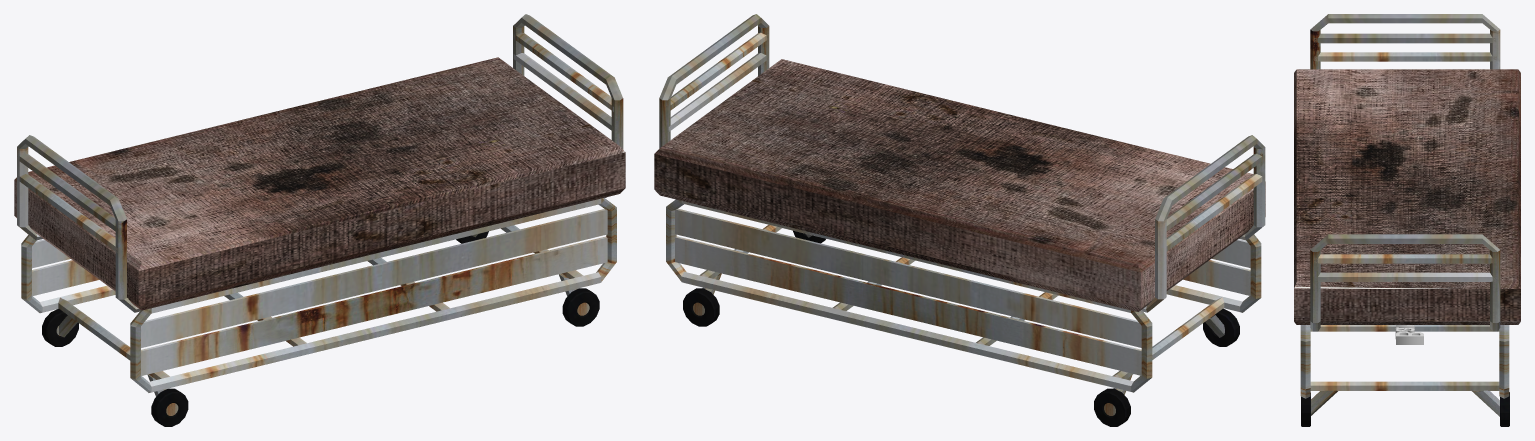
The model's file is Bed.fbx.
The picture shows the model from 3 angles, left to right: view 1: azimuth 30°, elevation 25°; view 2: azimuth 150°, elevation 25°; view 3: azimuth 270°, elevation 25°; orthographic projection. The views are drawn at different scales.
Visible parts, largest first — view 1: Cube; view 2: Cube; view 3: Cube, Text.
Boxes of the visible parts, <box> form: Cube: <box>14,14,625,426</box>; Cube: <box>654,14,1265,426</box>; Cube: <box>1294,14,1520,426</box>; Text: <box>1395,325,1423,344</box>.
Bounding box in the file's own units: 593 × 258 × 253.
Materials: 1 (1 with a texture image).
